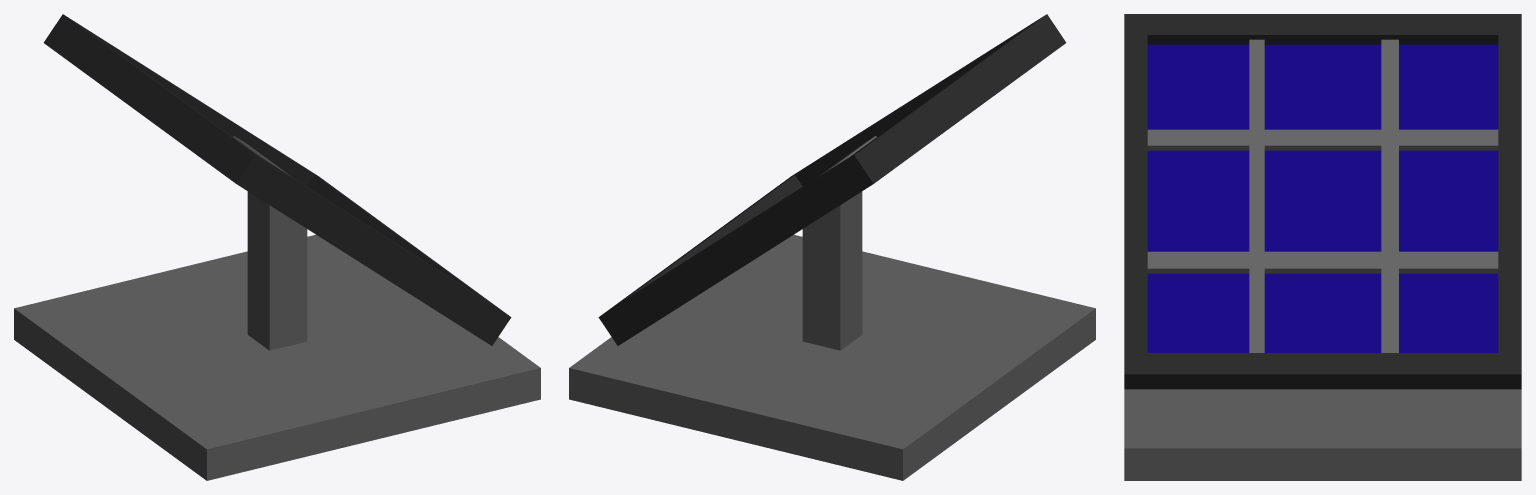
File: solar_panel.glb
The picture shows the model from 3 angles, left to right: view 1: azimuth 30°, elevation 25°; view 2: azimuth 150°, elevation 25°; view 3: azimuth 270°, elevation 25°; orthographic projection. The views are drawn at different scales.
Visible parts, largest first — view 1: Stand, Cube; view 2: Stand, Cube; view 3: Cube, Stand.
Boxes of the visible parts, x1,y1,x2,y2 form: Stand: (14,191,540,480); Cube: (43,14,511,345); Stand: (569,191,1095,480); Cube: (598,14,1066,345); Cube: (1124,14,1521,389); Stand: (1124,389,1521,480).
Bounding box in the file's own units: 2 × 1.8 × 2.
